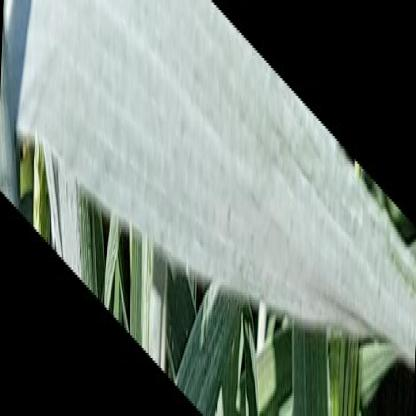Wheat Healthy: (8, 2, 210, 120), (156, 133, 331, 243), (338, 242, 414, 343), (271, 267, 335, 321), (89, 154, 149, 198), (235, 55, 261, 124), (213, 19, 229, 130), (238, 254, 268, 296)
